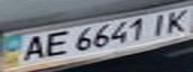1: (124, 16, 151, 43)
4: (109, 19, 133, 46)
6: (90, 21, 115, 51), (72, 25, 96, 53)
A: (15, 33, 51, 64)
E: (36, 29, 72, 60)
I: (145, 11, 175, 38)
K: (160, 7, 193, 34)
